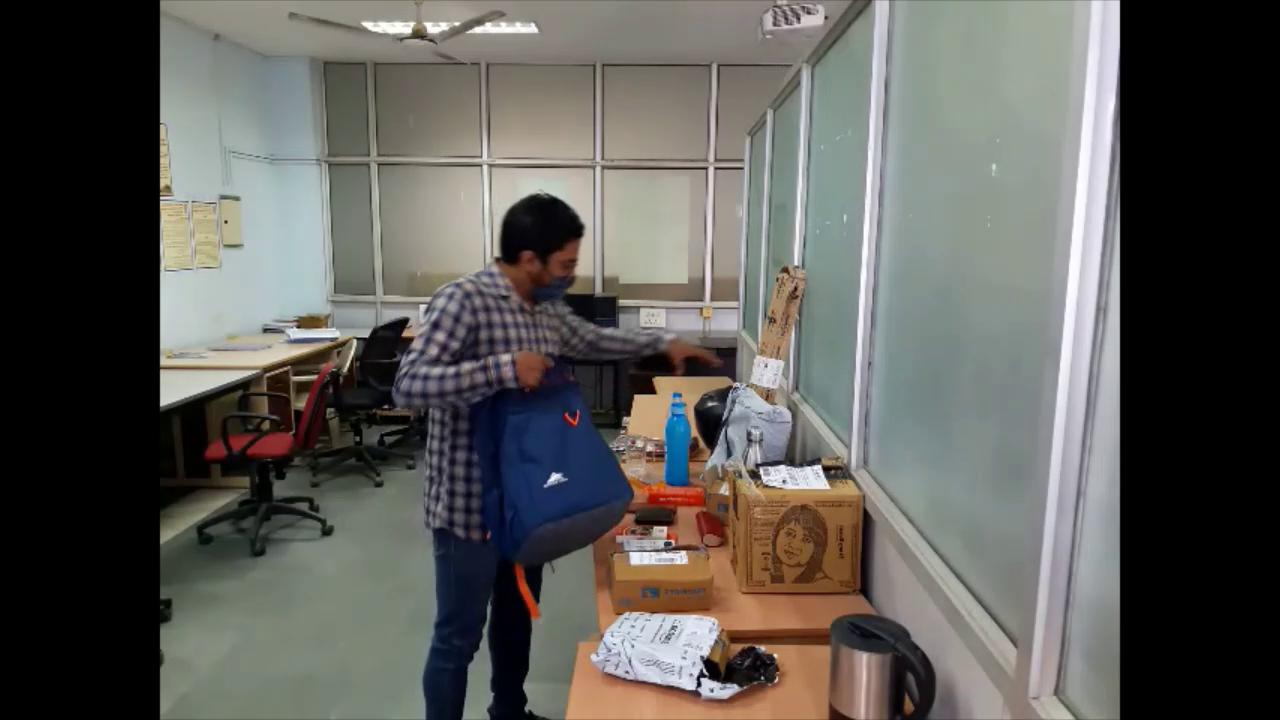shoplifting: (385, 185, 649, 720)
